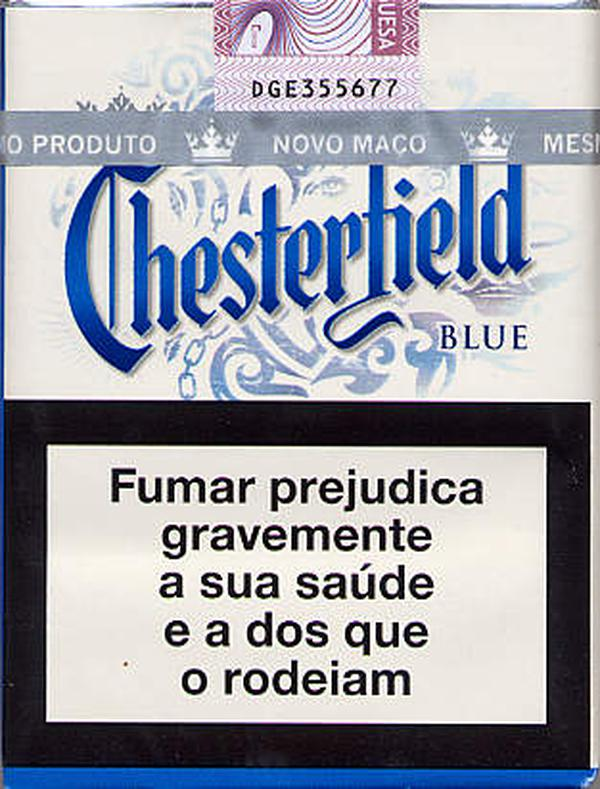chesterfield_blue: (1, 12, 588, 769)
